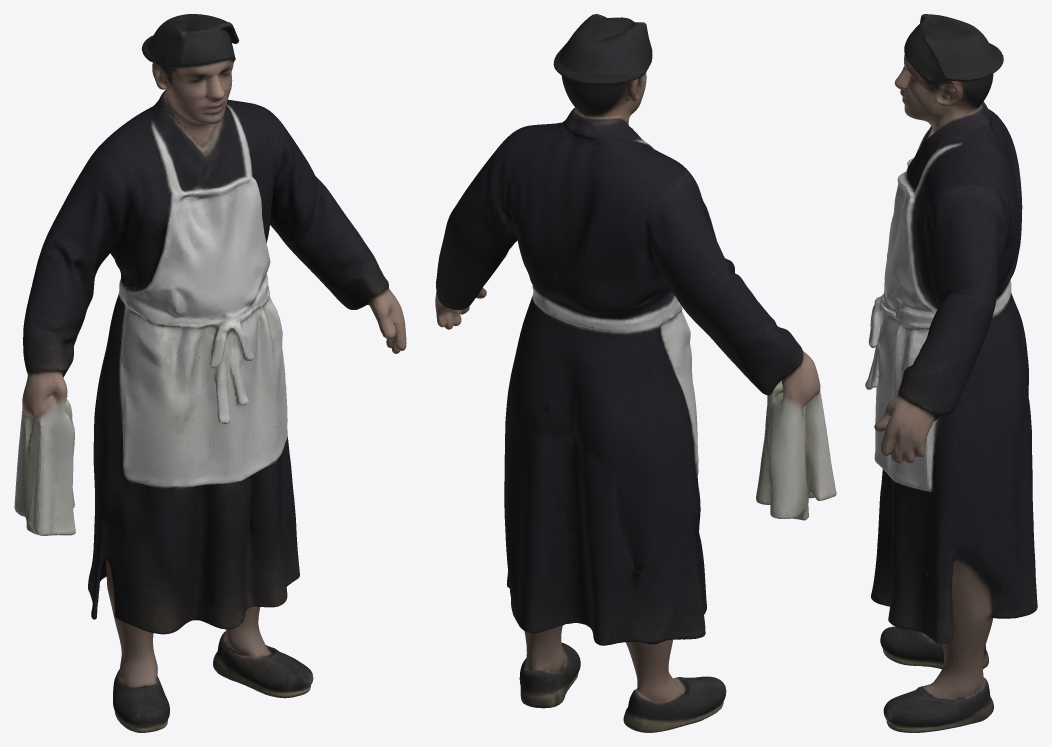
Rendered from teahouse-worker.glb.
3 renders of one model, left to right at view 1: azimuth 30°, elevation 25°; view 2: azimuth 150°, elevation 25°; view 3: azimuth 270°, elevation 25°, orthographic. The views are drawn at different scales.
Parts seen in each view (by area): view 1: world; view 2: world; view 3: world.
Part boxes in pixels (x1,y1,x2,y2): world: (14, 14, 406, 732); world: (435, 14, 836, 732); world: (865, 14, 1037, 732).
Size of the model in its own units: 1.03 by 1.75 by 0.4114.
1 material, 1 textured.
